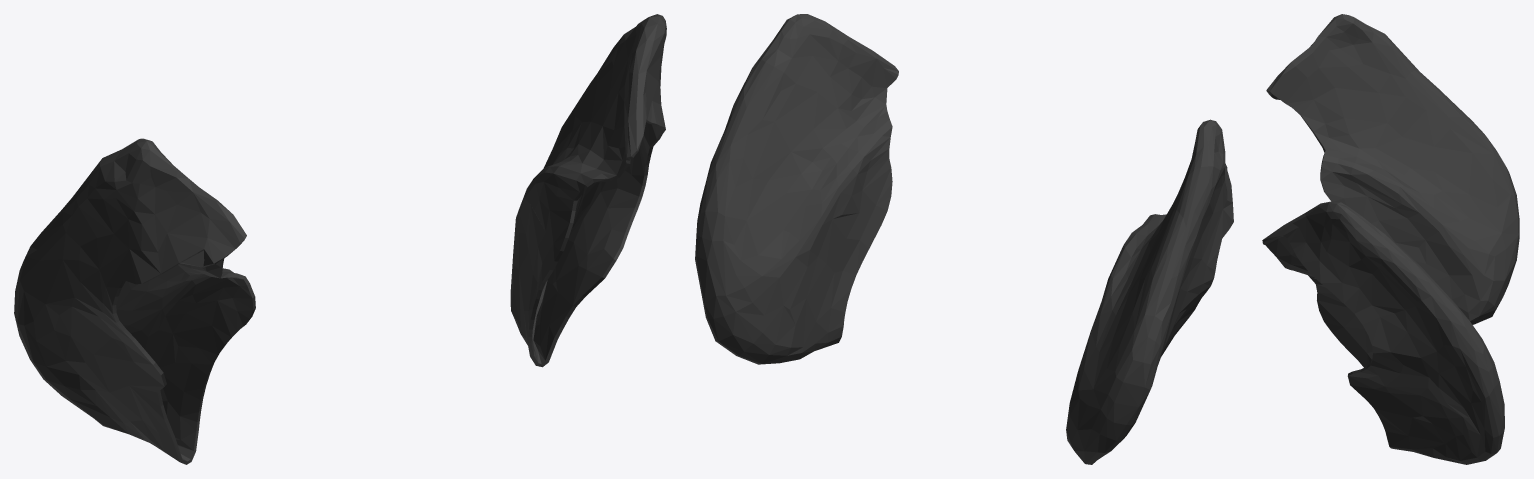
File: c6_expanded_plate.glb
3 renders of one model, left to right at view 1: azimuth 30°, elevation 25°; view 2: azimuth 150°, elevation 25°; view 3: azimuth 270°, elevation 25°, orthographic. The views are drawn at different scales.
Visible parts, largest first — view 1: c6_expanded_plate; view 2: c6_expanded_plate; view 3: c6_expanded_plate.
Boxes of the visible parts, bbox=[...] form: c6_expanded_plate: bbox=[14, 14, 666, 464]; c6_expanded_plate: bbox=[695, 14, 1233, 464]; c6_expanded_plate: bbox=[1262, 14, 1519, 464].
Size of the model in its own units: 39.31 by 24.56 by 19.7.
Materials: 1 (1 with a texture image).
